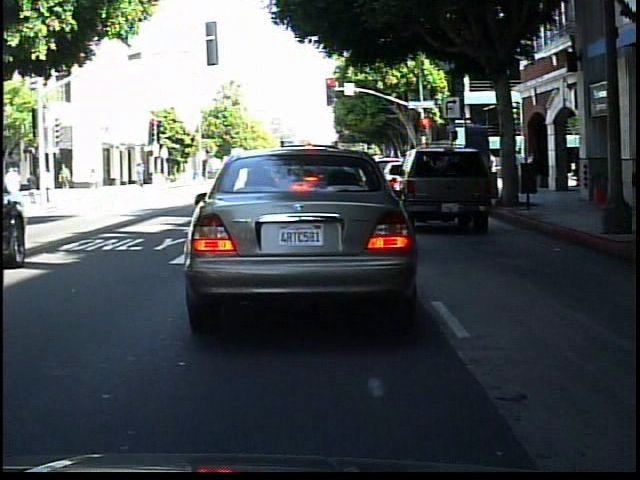person: (616, 141, 639, 222), (590, 142, 612, 217), (86, 161, 102, 197), (43, 163, 56, 207), (58, 161, 74, 191), (134, 161, 150, 191), (29, 168, 38, 206)
